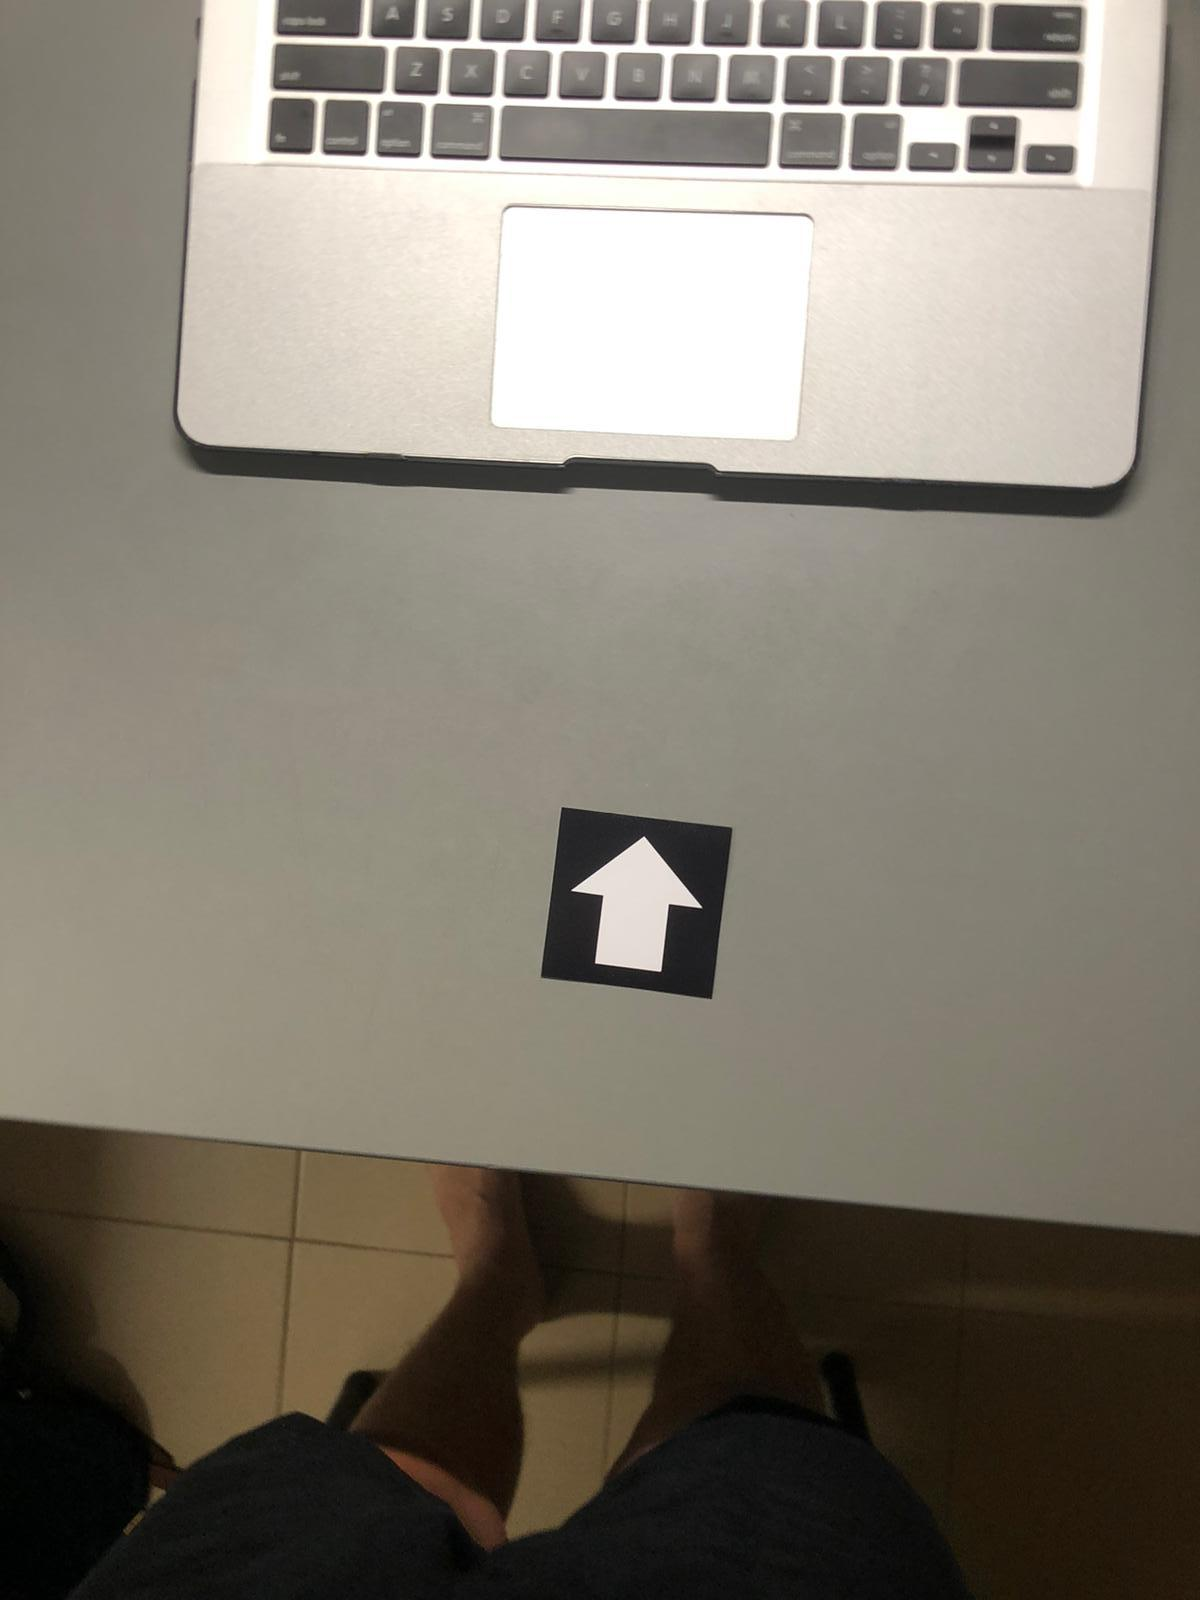Top Arrow: (546, 808, 729, 1008)
